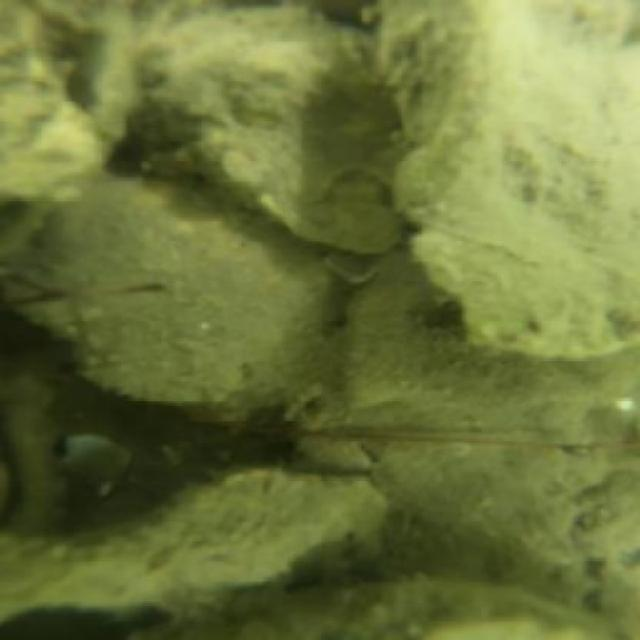Oyster- Indeterminate: (386, 1, 639, 362), (10, 174, 340, 413), (121, 6, 396, 255)
Oyster-Closed: (21, 469, 391, 619)
